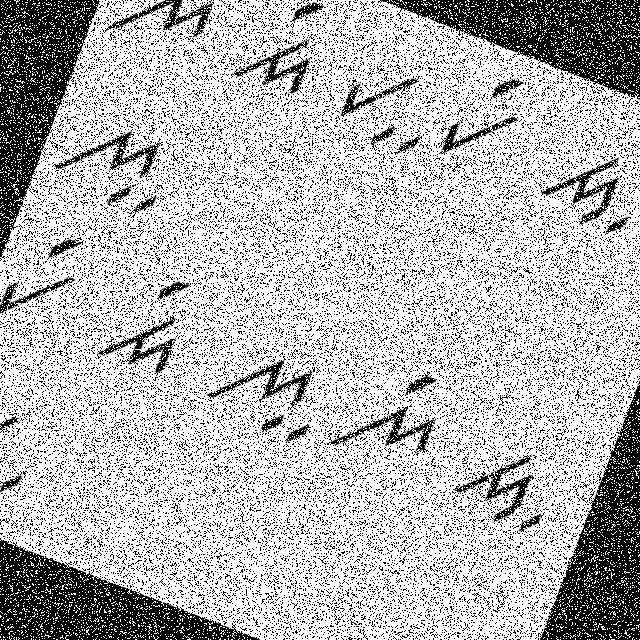dah: (439, 422, 568, 547), (528, 132, 639, 251), (0, 387, 52, 511)
dang: (87, 250, 205, 393), (219, 0, 339, 105)
nah: (188, 322, 336, 456), (38, 96, 182, 226)
nang: (326, 346, 460, 486), (101, 0, 238, 65)
pah: (319, 36, 450, 170)
pang: (431, 51, 538, 180), (0, 216, 99, 341)
